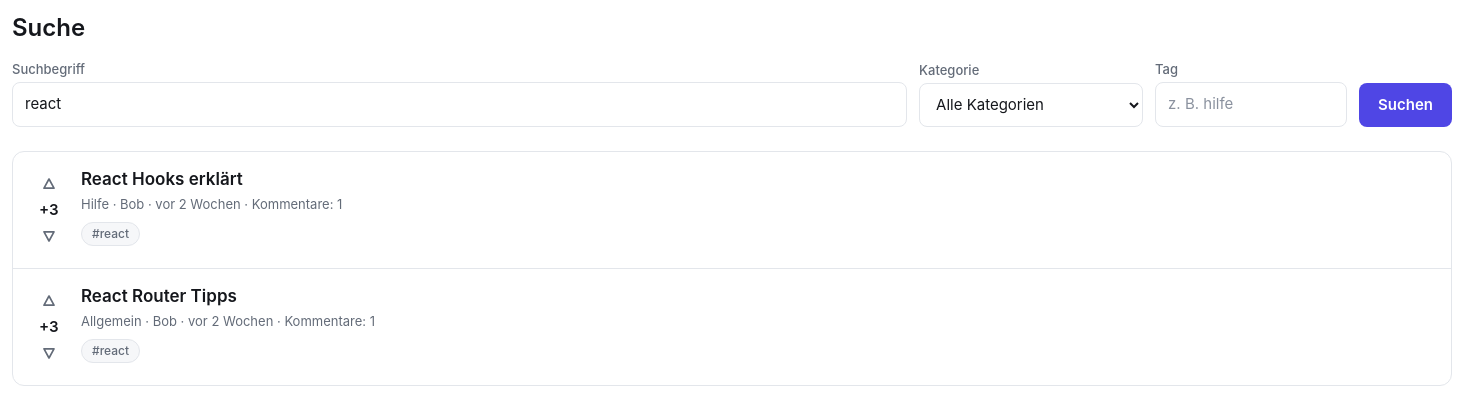
Test: SearchPage › re-queries and narrows the hits when a category filter is chosen
The width and height of the screenshot is (1464, 403).
Check: the number of list items with test id "search-result" is 2, box [33,168,342,252]; [13,268,1451,384]
Select "Hilfe" in the dropdown labelled "Kategorie" at (1031, 104), box [919,82,1143,126]
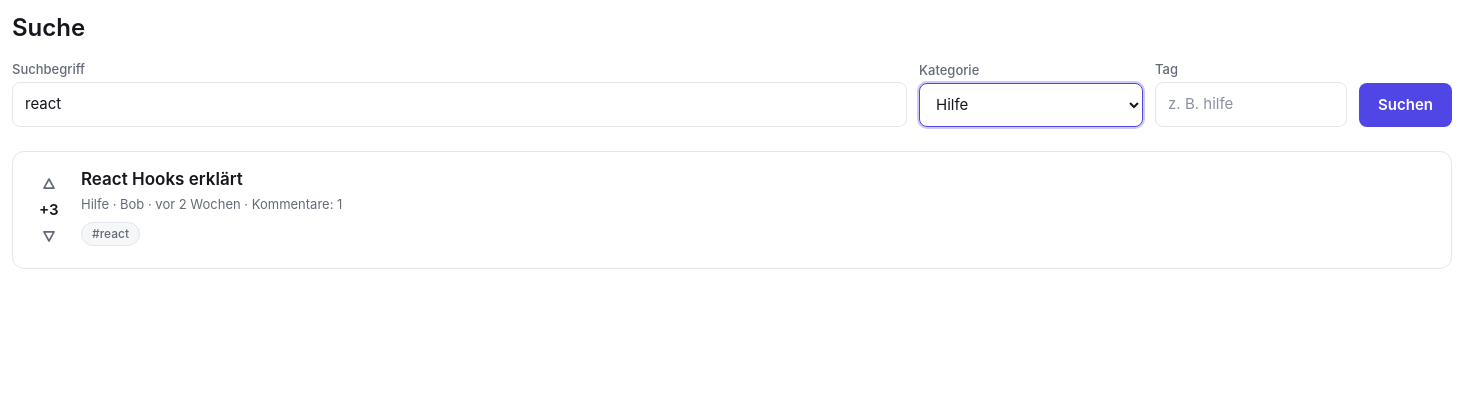
Check: the number of list items with test id "search-result" is 1, box [33,168,342,252]
